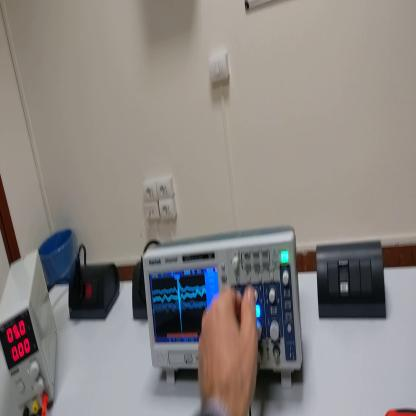hand: (198, 284, 259, 415)
oscilloscope: (142, 222, 304, 386)
pliers: (387, 408, 416, 416)
socket: (68, 265, 123, 319), (133, 262, 148, 320)
